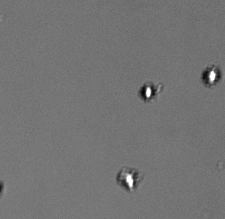Living Cell: (119, 167, 139, 190), (203, 65, 221, 86), (139, 82, 156, 101)
